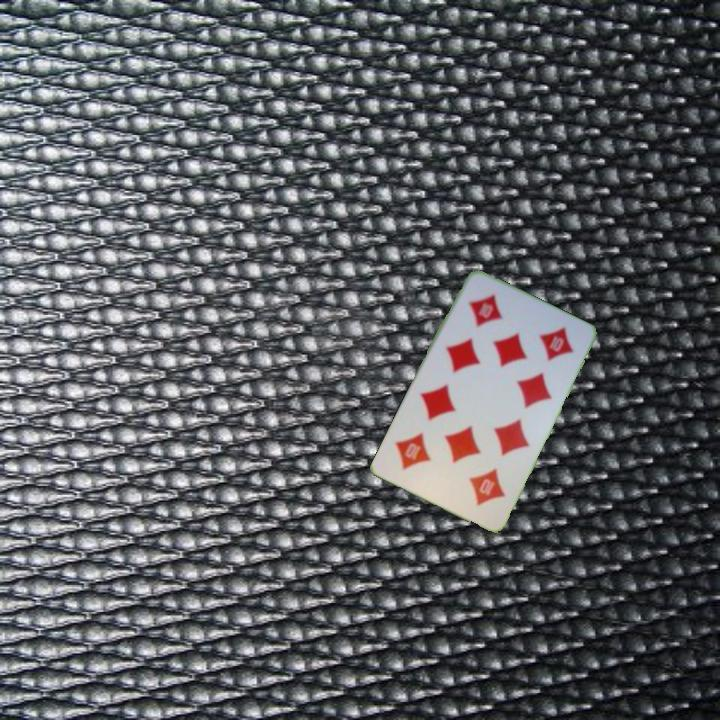d_10.png: (449, 278, 533, 358), (436, 443, 520, 522)
